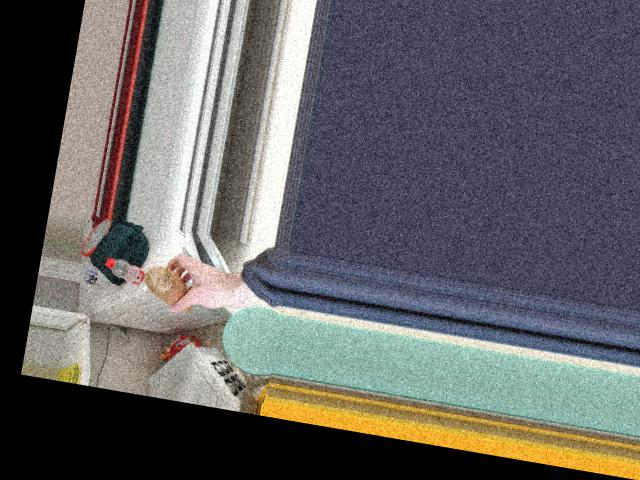sweet_potato: (142, 262, 205, 317)
